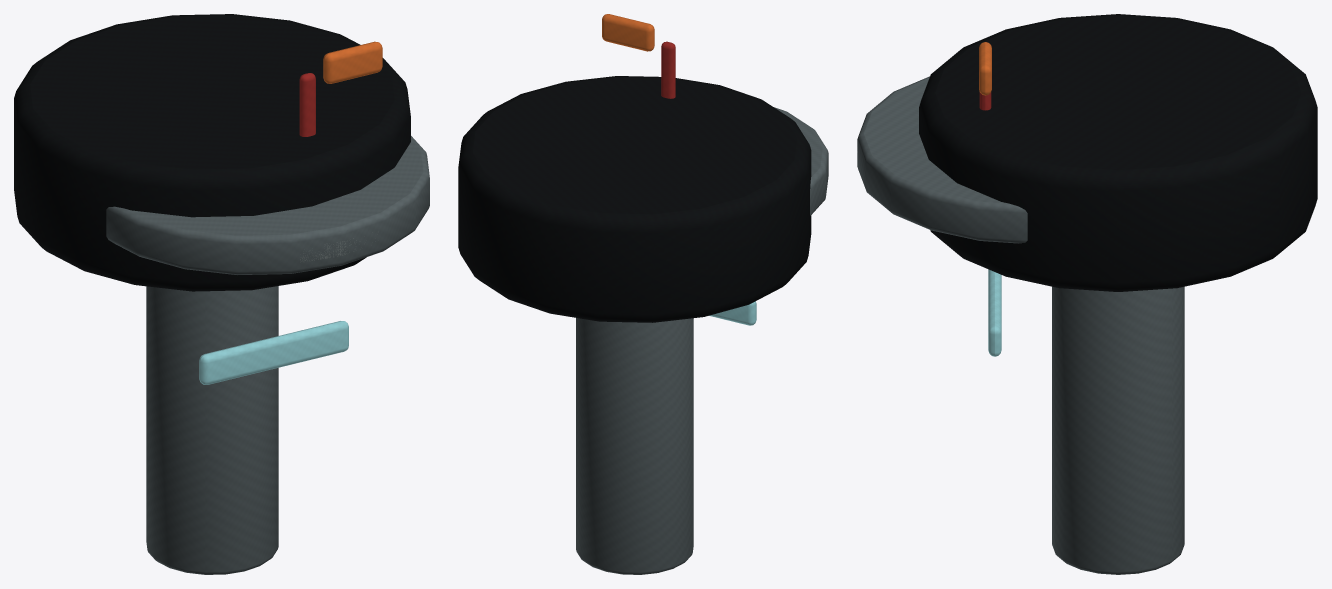
Rendered from PressureGauge.glb.
The picture shows the model from 3 angles, left to right: view 1: azimuth 30°, elevation 25°; view 2: azimuth 150°, elevation 25°; view 3: azimuth 270°, elevation 25°; orthographic projection. The views are drawn at different scales.
Visible parts, largest first — view 1: PressureGauge_Mesh; view 2: PressureGauge_Mesh; view 3: PressureGauge_Mesh.
Part boxes in pixels (x1,y1,x2,y2): PressureGauge_Mesh: [14, 14, 429, 574]; PressureGauge_Mesh: [458, 14, 828, 574]; PressureGauge_Mesh: [857, 14, 1317, 574].
Bounding box in the file's own units: 0.42 × 0.6175 × 0.485.
Materials: 6 (6 with a texture image).
